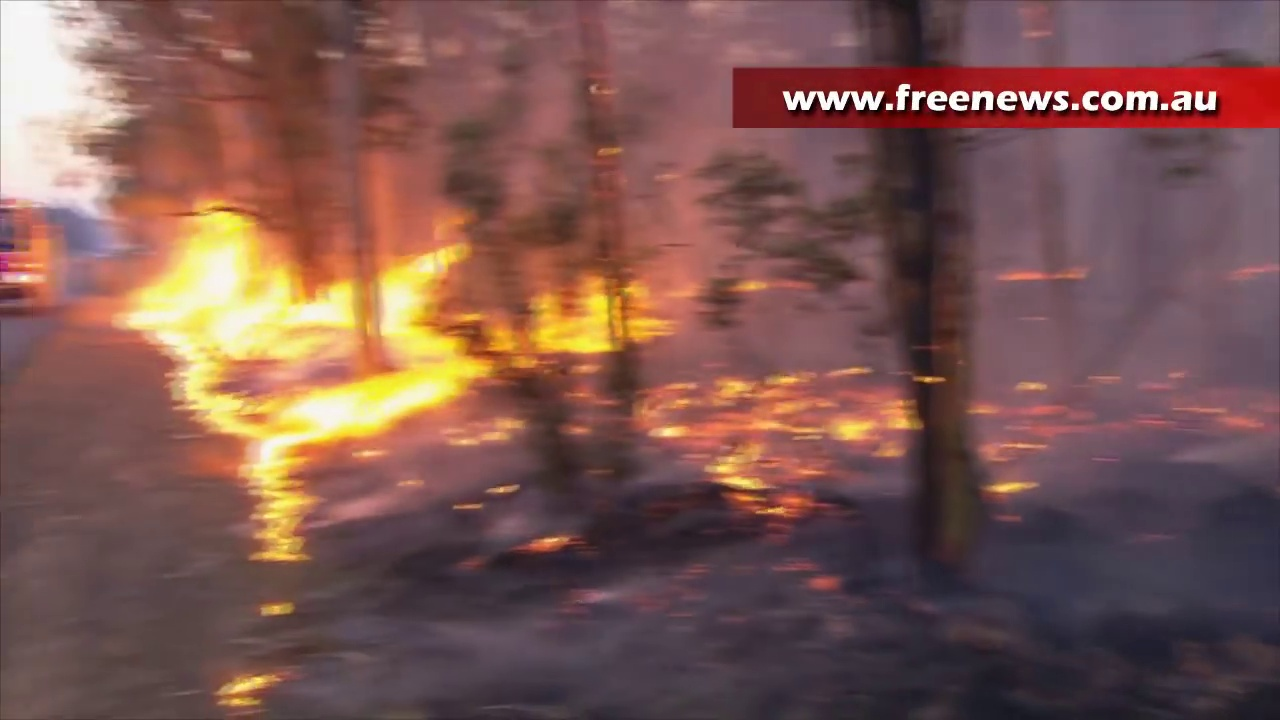fire: (172, 371, 472, 580), (646, 368, 922, 514), (127, 210, 353, 368), (378, 239, 479, 383), (529, 268, 663, 358)
